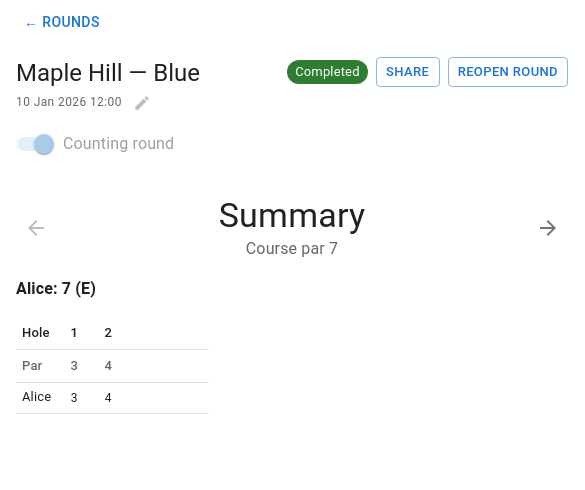
it: RoundPage › does not show quick-score buttons on a completed round
expect the text "Completed" is shown: met, box [295,64,360,79]
Click the button named "next hole": (548, 228) [528,208,568,248]
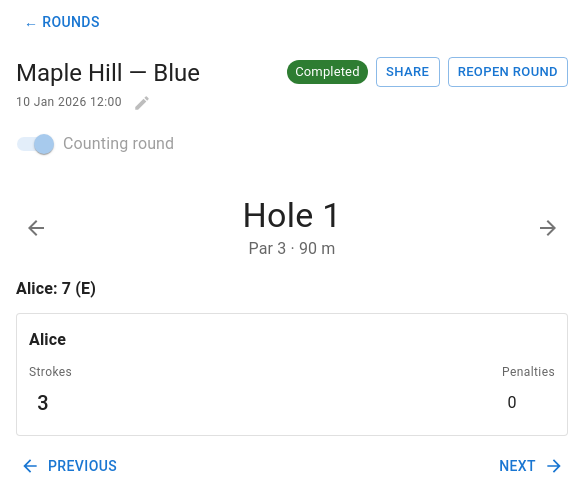
expect the heading "Hole 1" is shown: met, box [242,194,342,236]
